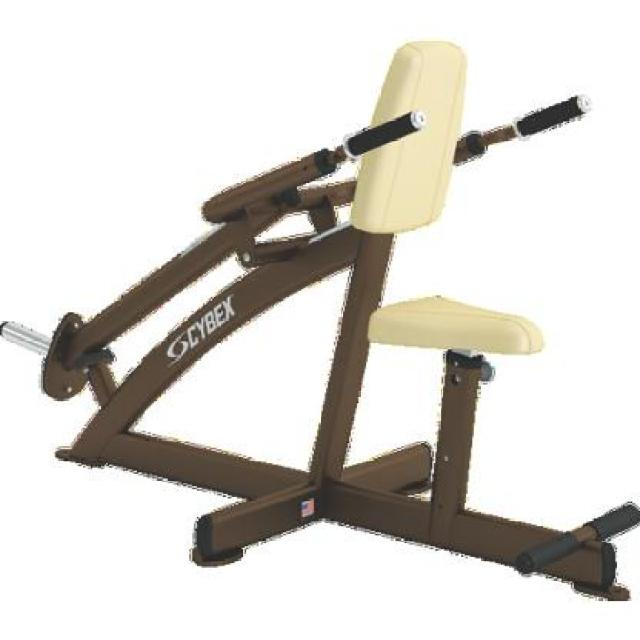seated dip machine: (0, 38, 640, 604)
